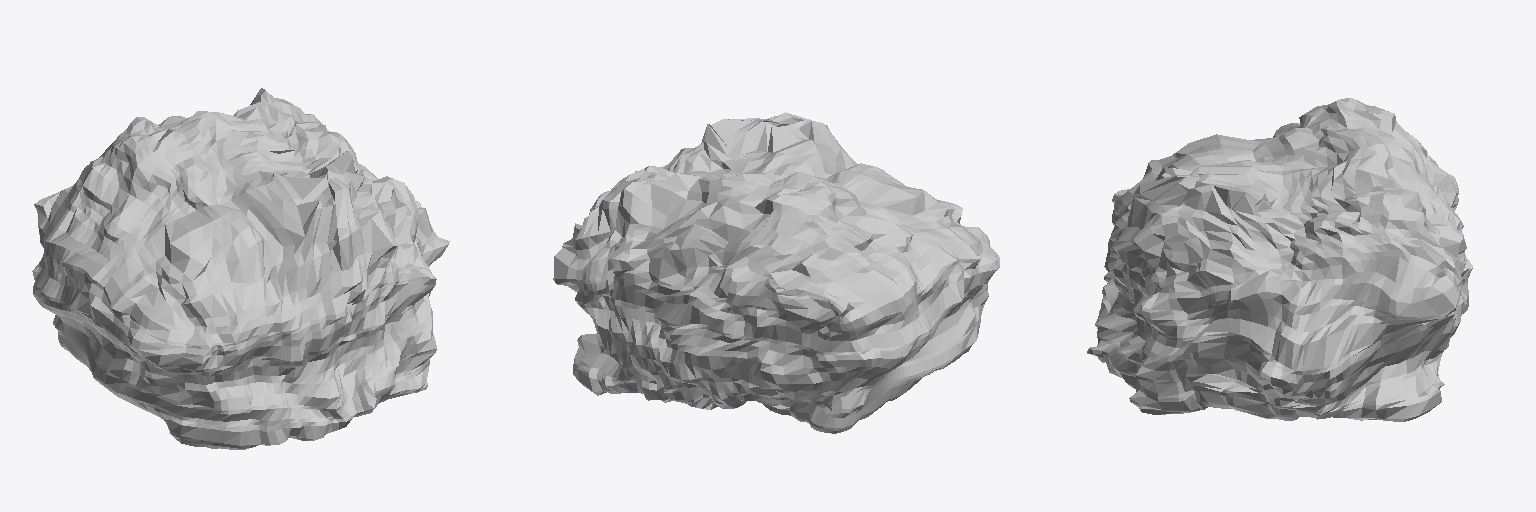
File: stoneSma.obj
3 renders of one model, left to right at view 1: azimuth 30°, elevation 25°; view 2: azimuth 150°, elevation 25°; view 3: azimuth 270°, elevation 25°, orthographic.
Visible parts, largest first — view 1: pCube1; view 2: pCube1; view 3: pCube1.
Boxes of the visible parts, x1=… form: pCube1: x1=32, y1=88, x2=449, y2=449; pCube1: x1=553, y1=112, x2=999, y2=433; pCube1: x1=1087, y1=98, x2=1472, y2=421.
Bounding box in the file's own units: 22.03 × 13.32 × 19.44.